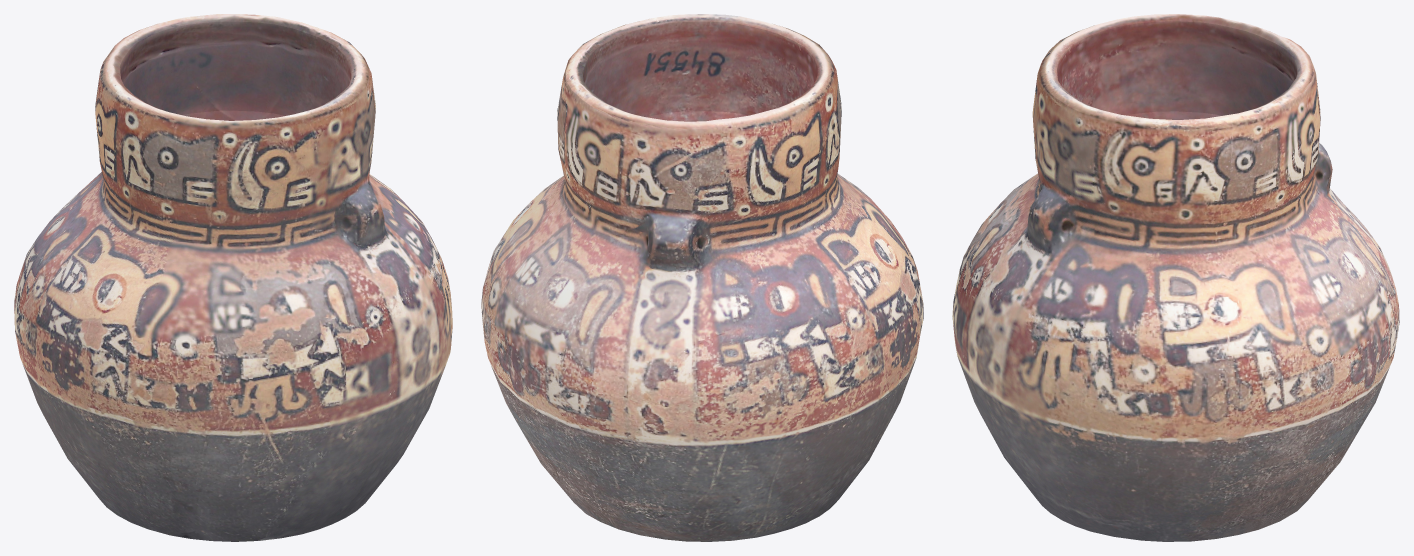
File: Wari01.glb
The picture shows the model from 3 angles, left to right: view 1: azimuth 30°, elevation 25°; view 2: azimuth 150°, elevation 25°; view 3: azimuth 270°, elevation 25°; orthographic projection.
Visible parts, largest first — view 1: Box001; view 2: Box001; view 3: Box001.
Part boxes in pixels (x1,y1,x2,y2): Box001: (14, 14, 452, 541); Box001: (481, 14, 923, 541); Box001: (952, 14, 1399, 541).
Size of the model in its own units: 76 by 79.23 by 76.76.
Materials: 1 (1 with a texture image).
